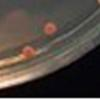orange: (41, 21, 59, 36), (20, 44, 35, 58), (95, 0, 100, 7)
